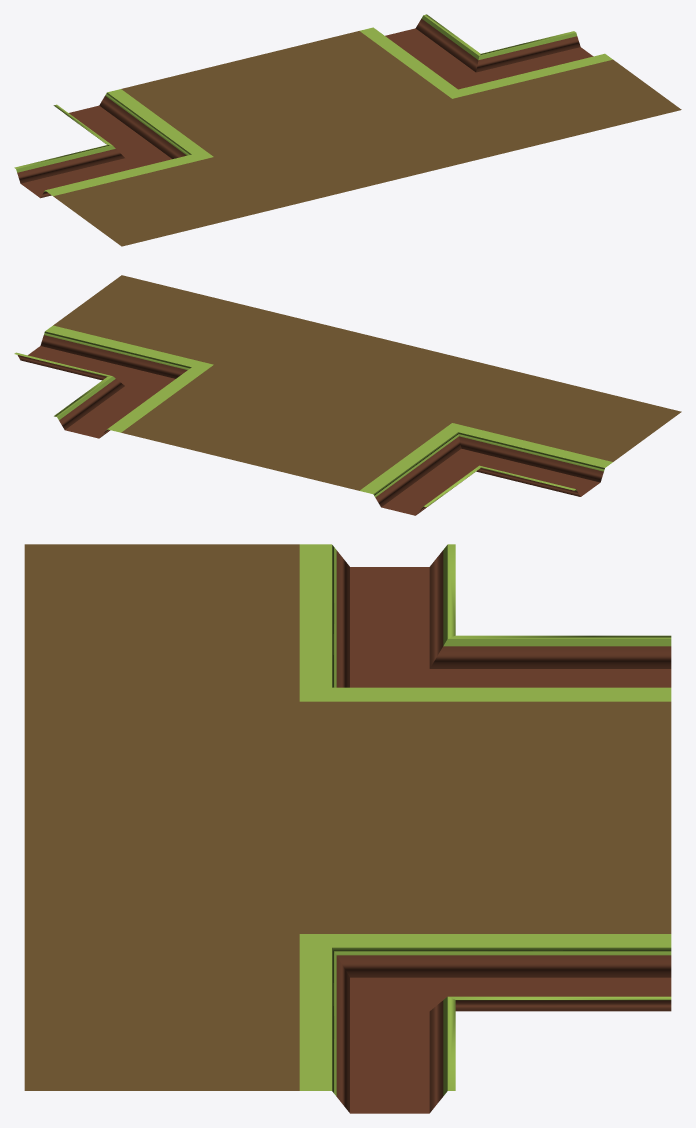
File: road_Dirt_Intersection.fbx
3 views of the same model, one above another, from view 1: azimuth 30°, elevation 25°; view 2: azimuth 150°, elevation 25°; view 3: azimuth 270°, elevation 25° (orthographic). The views are drawn at different scales.
Parts seen in each view (by area): view 1: road_Dirt_Intersection; view 2: road_Dirt_Intersection; view 3: road_Dirt_Intersection.
Boxes of the visible parts, x1,y1,x2,y2 form: road_Dirt_Intersection: [14, 14, 681, 246]; road_Dirt_Intersection: [14, 275, 681, 515]; road_Dirt_Intersection: [24, 544, 671, 1113].
Size of the model in its own units: 30 by 0.5748 by 15.
Materials: 1 (1 with a texture image).
